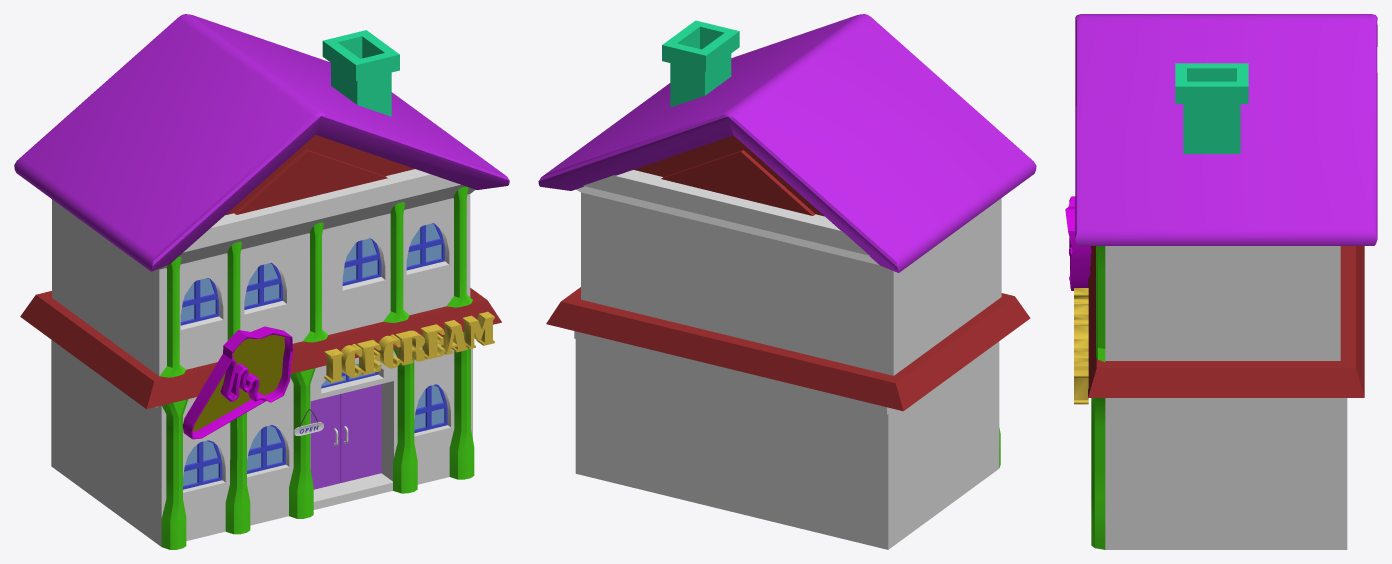
Rendered from IcrecreamShop 1.fbx.
3 views of the same model, side by side, from view 1: azimuth 30°, elevation 25°; view 2: azimuth 150°, elevation 25°; view 3: azimuth 270°, elevation 25° (orthographic). The views are drawn at different scales.
Parts seen in each view (by area): view 1: Chimney, BodyBot, PillarBot, IceacreamTxt, DoorR, DoorL; view 2: Chimney, BodyBot; view 3: Chimney, BodyBot, PillarBot, IceacreamTxt.
Boxes of the visible parts, x1,y1,x2,y2 form: Chimney: [14, 14, 509, 409]; BodyBot: [51, 326, 472, 546]; PillarBot: [160, 186, 474, 549]; IceacreamTxt: [324, 311, 494, 382]; DoorR: [340, 384, 381, 482]; DoorL: [310, 394, 340, 489]; Chimney: [538, 14, 1036, 411]; BodyBot: [574, 331, 999, 549]; Chimney: [1075, 14, 1377, 397]; BodyBot: [1065, 196, 1347, 549]; PillarBot: [1091, 246, 1105, 549]; IceacreamTxt: [1074, 288, 1088, 404].
Bounding box in the file's own units: 927 × 1009 × 641.
